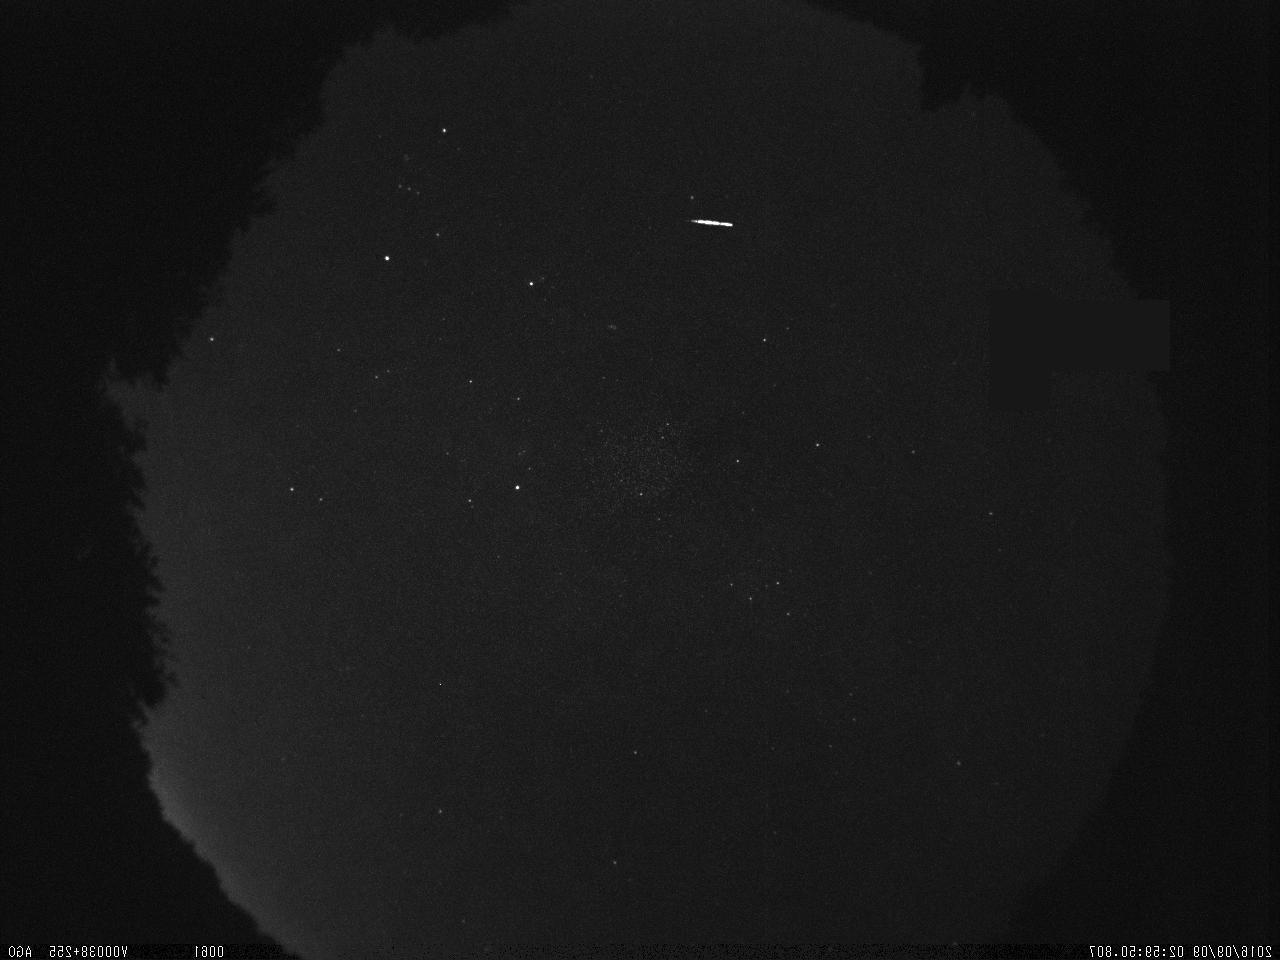meteor: (678, 206, 757, 239)
